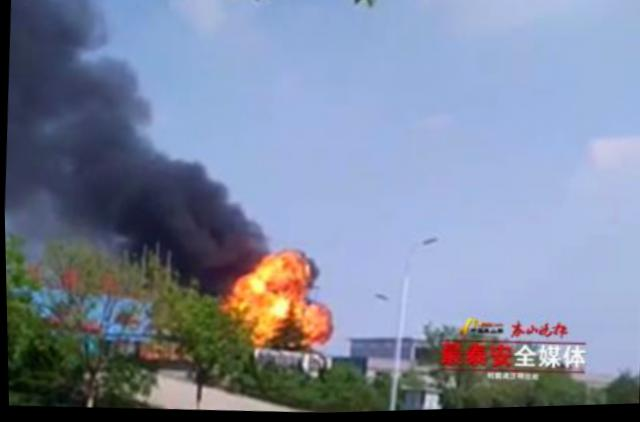fire: (212, 246, 334, 352)
